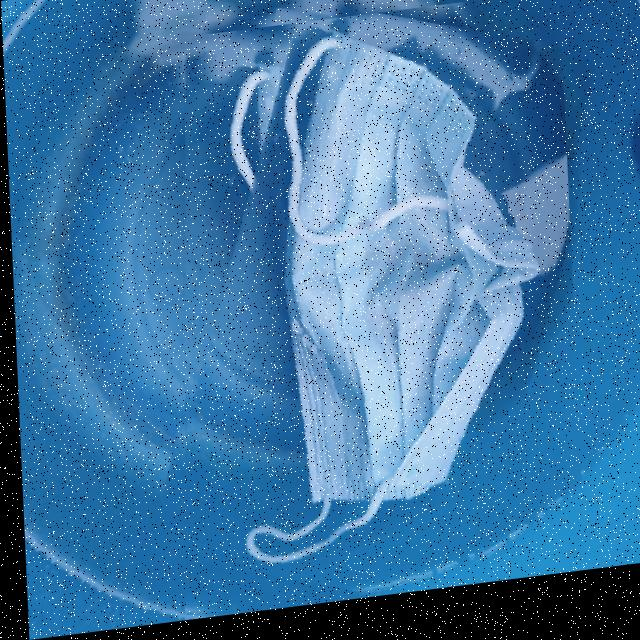mask: (158, 4, 578, 625)
